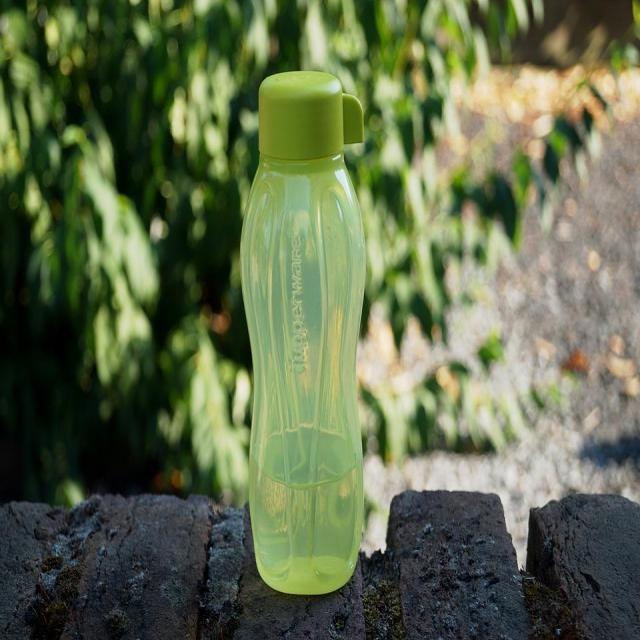bottle: (228, 59, 397, 610)
